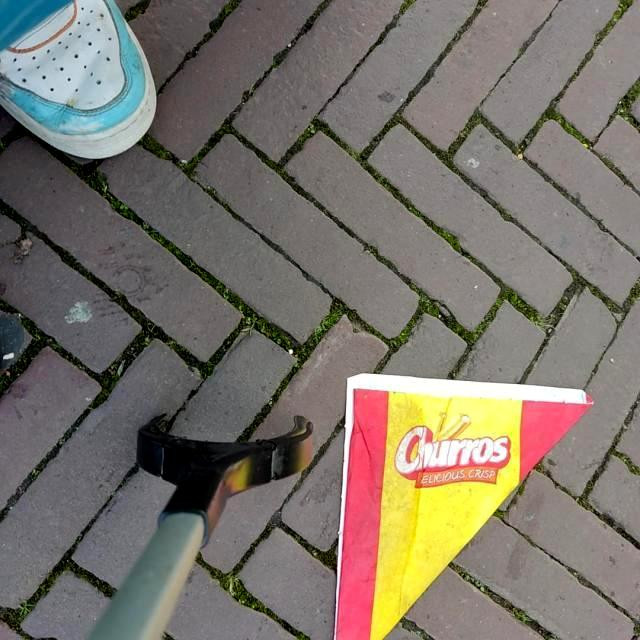Paper: (332, 370, 596, 638)
